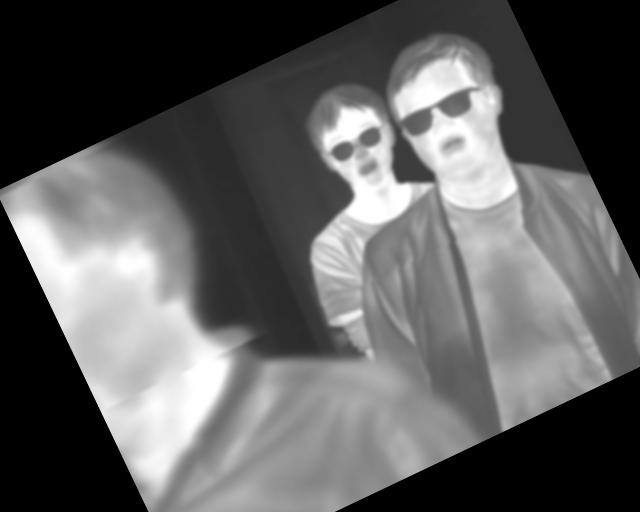face: (367, 13, 533, 199), (291, 69, 414, 205)
